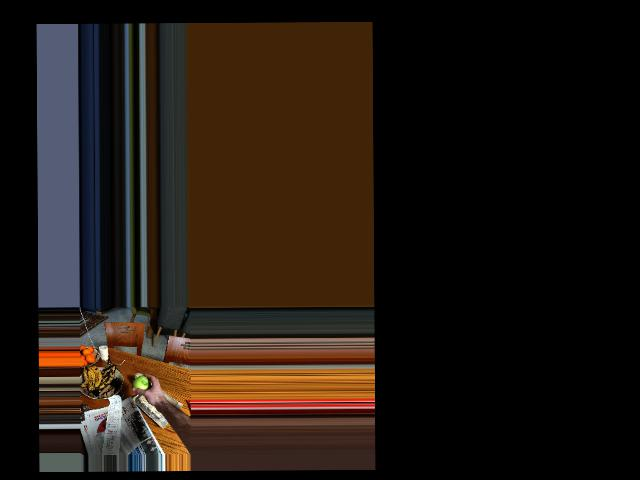apple: (132, 373, 152, 395)
